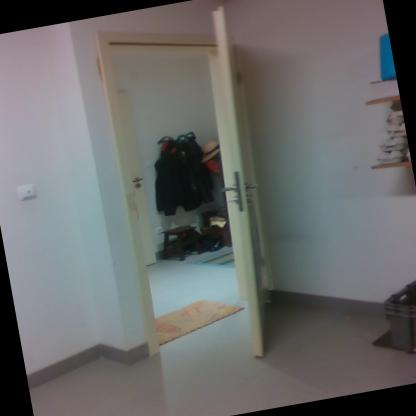semi: (94, 5, 304, 382)
